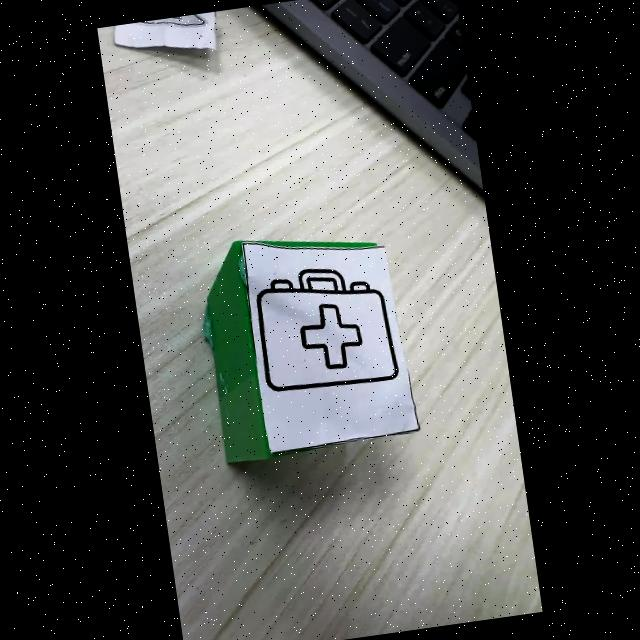Medkit: (257, 269, 399, 391)
